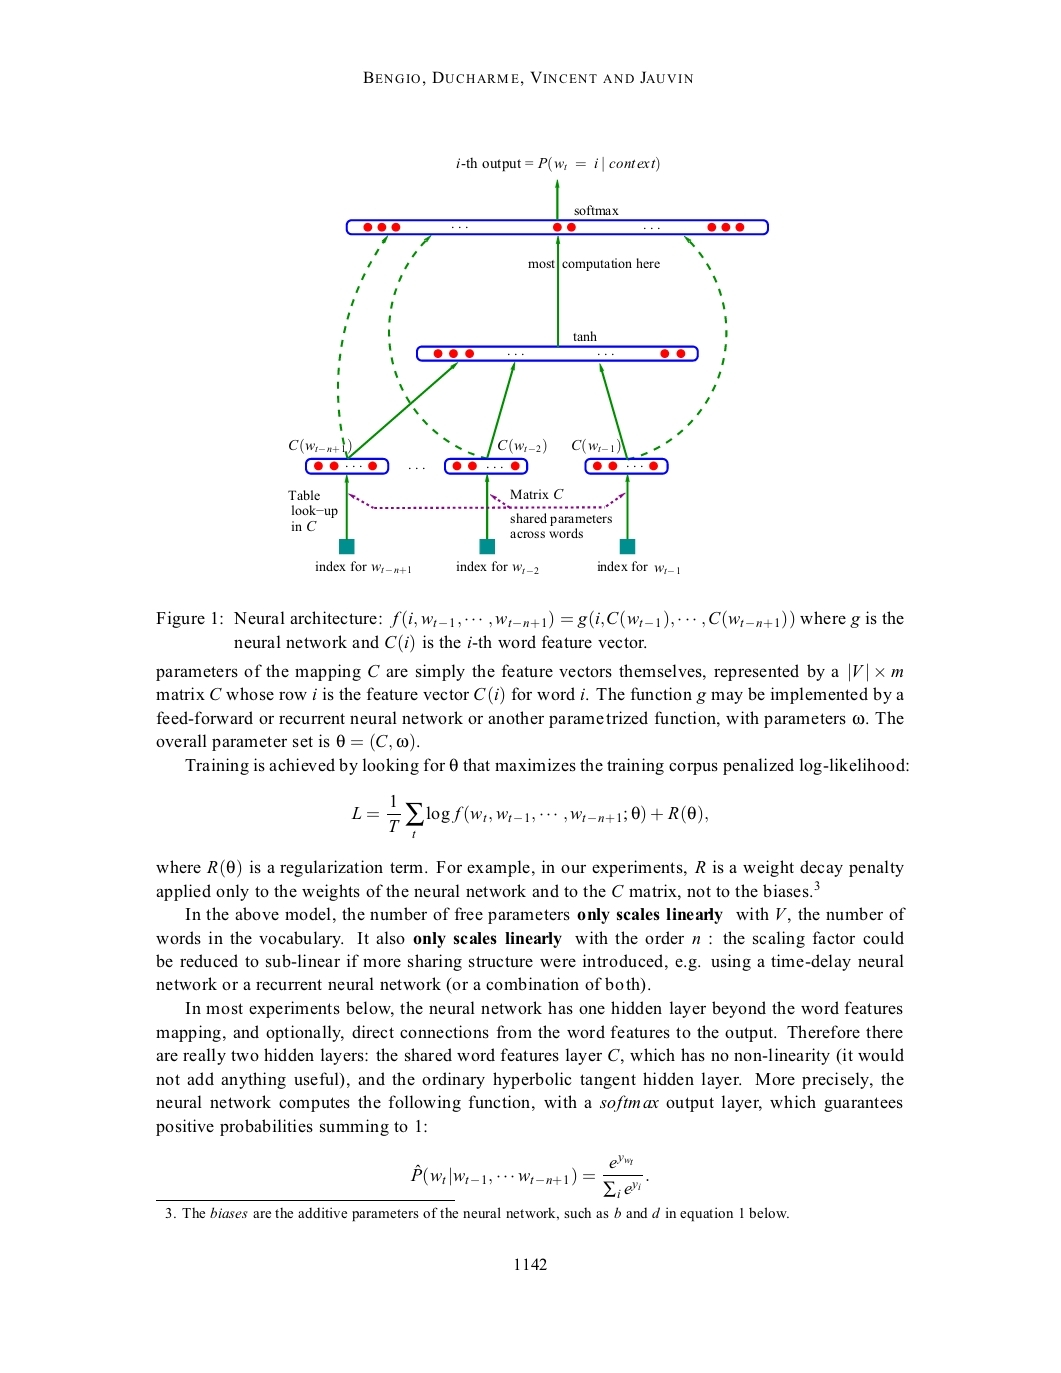figure: (288, 156, 768, 573)
formula: (156, 1155, 648, 1200), (351, 793, 707, 838)
